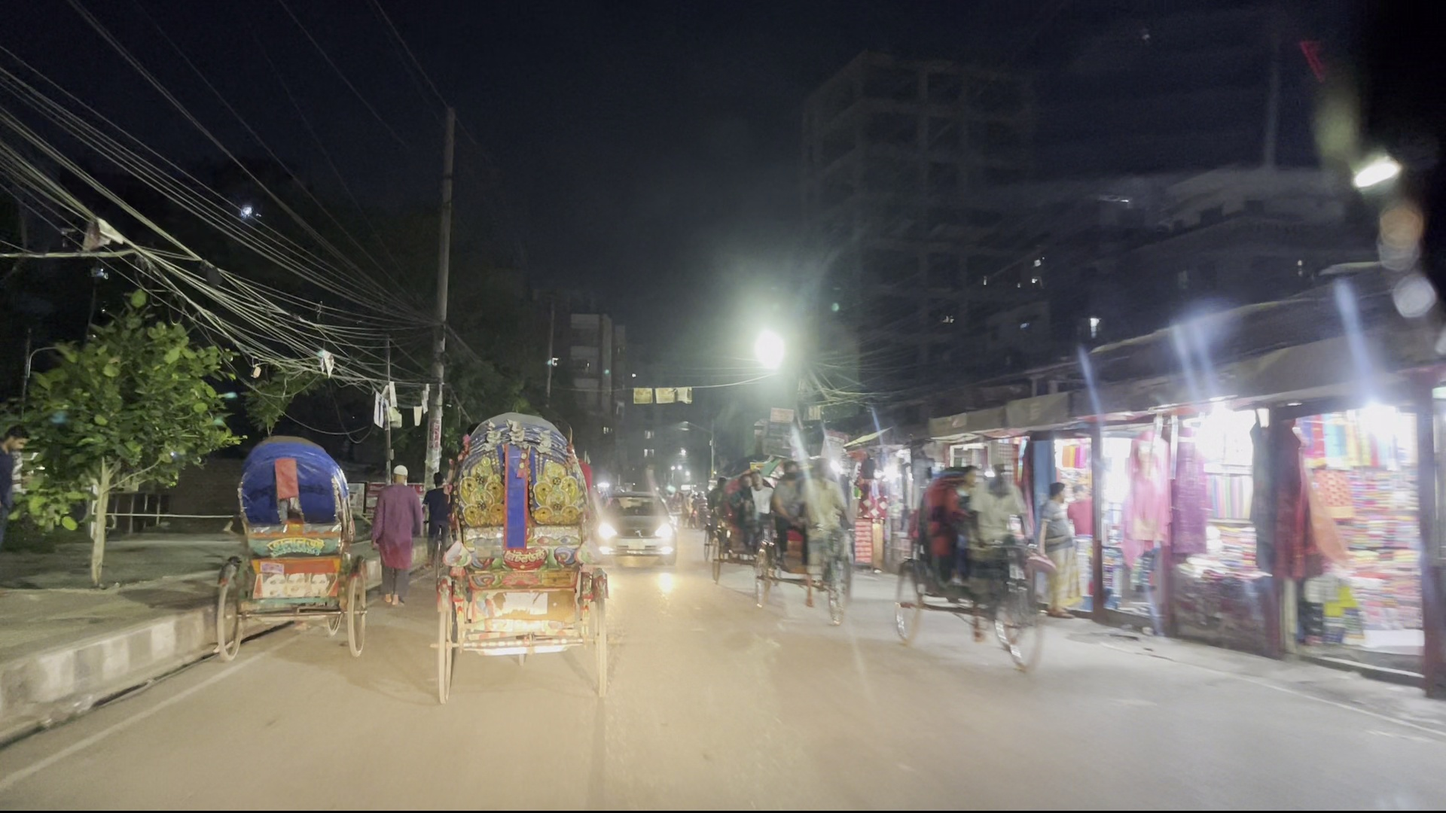car: (593, 477, 692, 613)
person: (958, 455, 1037, 601), (1034, 477, 1082, 651), (377, 446, 412, 613), (425, 471, 456, 553)
